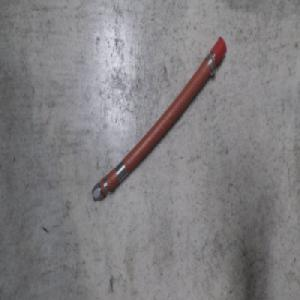Hose: (90, 35, 229, 206)
